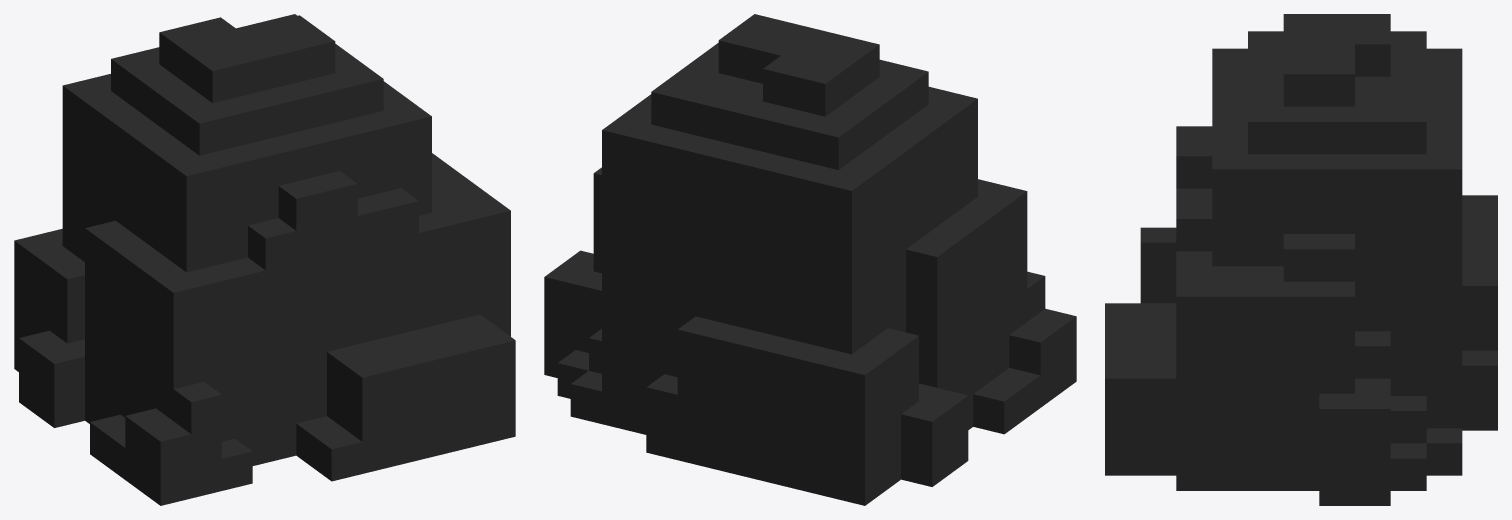
The model's file is rock_4.obj.
3 views of the same model, side by side, from view 1: azimuth 30°, elevation 25°; view 2: azimuth 150°, elevation 25°; view 3: azimuth 270°, elevation 25° (orthographic).
Bounding box in the file's own units: 1.3 × 1.1 × 1.1.
Materials: 1 (1 with a texture image).
